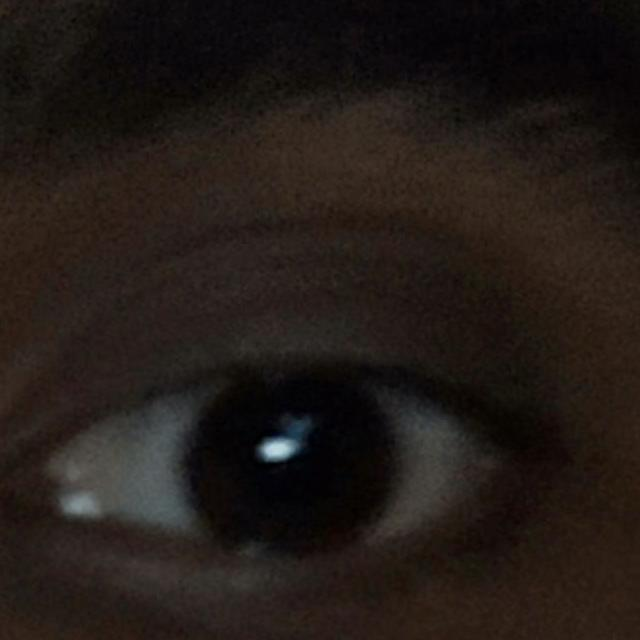eye: (49, 370, 478, 561)
iris: (182, 378, 400, 549)
